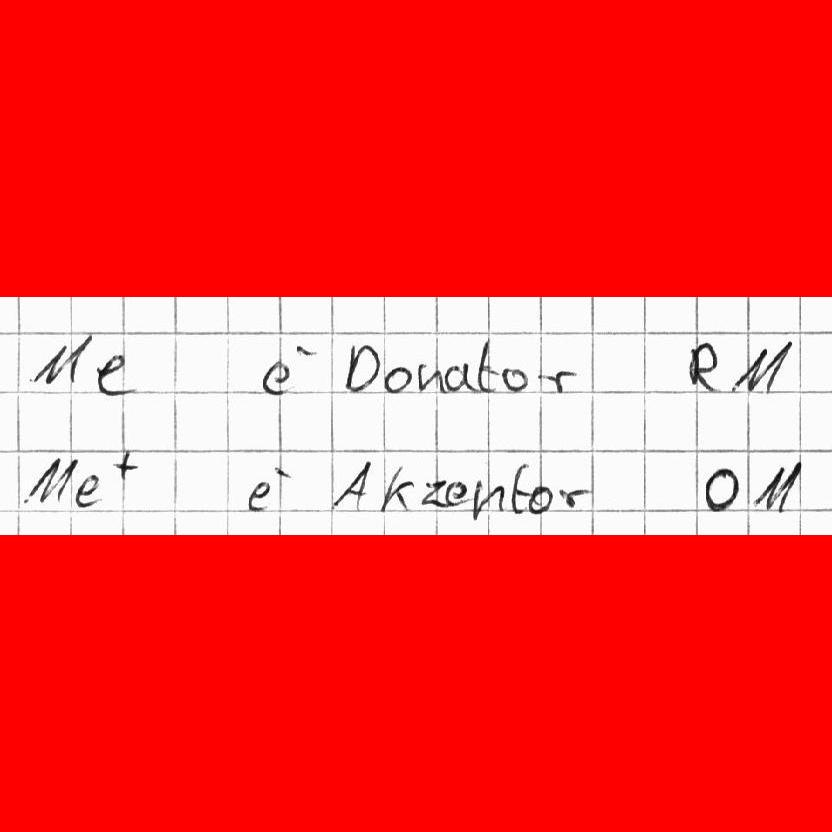Char: (730, 338, 791, 397), (29, 336, 91, 389), (22, 454, 78, 507), (753, 457, 801, 512), (326, 456, 373, 507), (342, 343, 381, 397), (702, 463, 742, 513), (684, 338, 719, 393), (380, 464, 412, 514), (94, 355, 131, 397), (470, 478, 503, 522), (508, 462, 532, 517), (537, 365, 577, 396), (259, 359, 292, 396), (73, 472, 102, 509), (476, 338, 496, 391), (444, 360, 473, 394), (246, 477, 272, 511), (109, 450, 138, 479), (384, 362, 410, 393), (417, 360, 440, 394), (500, 364, 527, 392), (421, 477, 444, 509), (527, 485, 552, 513), (559, 485, 586, 509), (444, 479, 467, 507), (272, 462, 296, 484), (292, 341, 318, 359)
